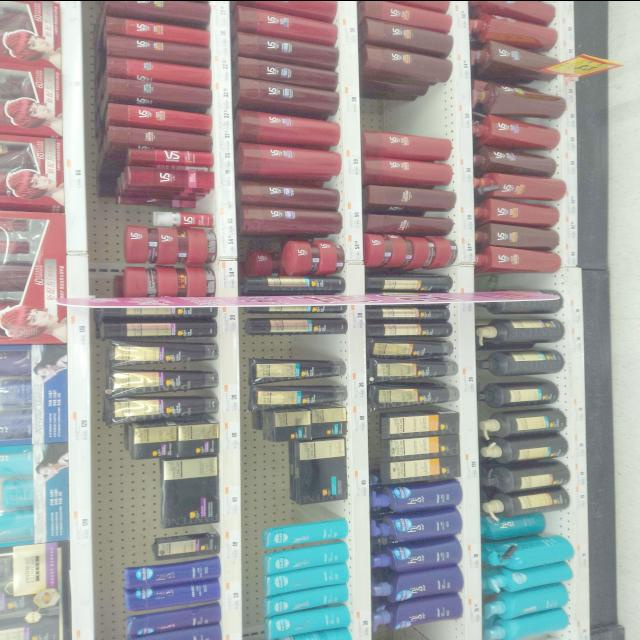empty_space: (363, 92, 451, 121), (258, 334, 342, 354), (259, 503, 345, 521), (389, 627, 468, 640), (534, 512, 582, 528)
